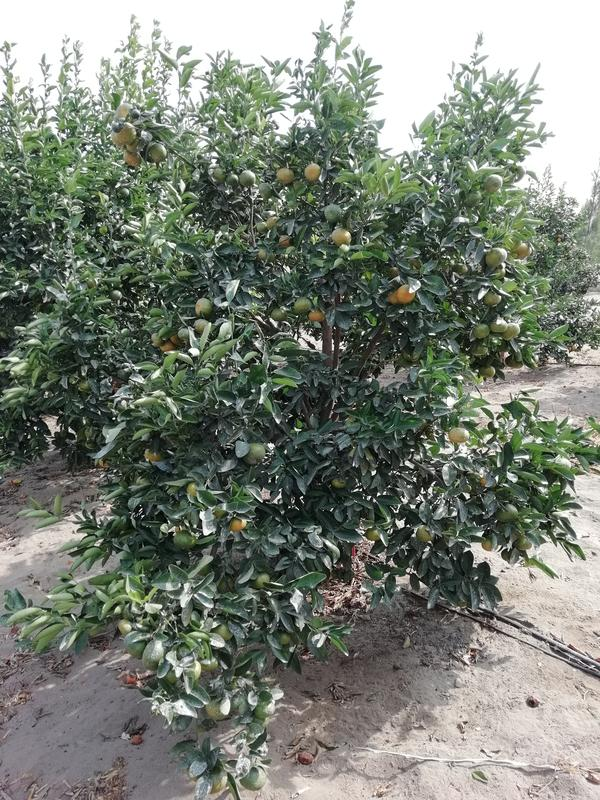mandarina naranja: (109, 123, 138, 146), (121, 150, 142, 167), (276, 168, 295, 186), (398, 284, 415, 304), (304, 164, 319, 181)
mandarina verde: (141, 638, 163, 672), (240, 766, 266, 791), (124, 631, 145, 660), (173, 528, 195, 550), (484, 246, 507, 267), (245, 442, 265, 465), (254, 699, 276, 718), (330, 226, 352, 245), (292, 296, 313, 315), (147, 143, 168, 162), (194, 298, 214, 316), (498, 505, 519, 522), (448, 427, 470, 443), (484, 175, 503, 193), (324, 204, 342, 222), (490, 318, 509, 334), (240, 170, 256, 188), (472, 323, 490, 339), (417, 524, 432, 541), (484, 292, 501, 307), (270, 308, 287, 321), (509, 322, 520, 340), (226, 173, 239, 187), (111, 289, 123, 301)
